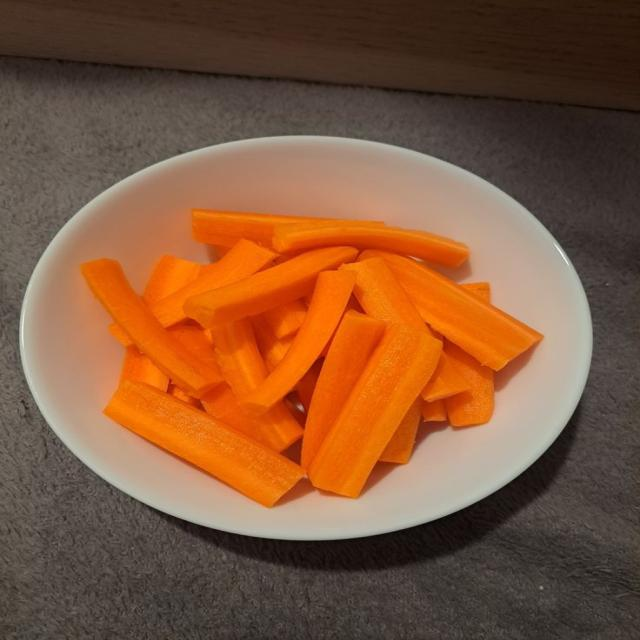carrot: (105, 381, 303, 506), (308, 325, 440, 497), (364, 251, 542, 370), (81, 259, 221, 397), (240, 271, 355, 413), (185, 247, 358, 326), (301, 311, 385, 468), (150, 240, 276, 326), (273, 222, 468, 266), (341, 258, 439, 337), (192, 209, 360, 247), (192, 209, 327, 246), (213, 319, 266, 398), (445, 341, 493, 426), (143, 256, 206, 305), (143, 256, 205, 304), (200, 382, 254, 437), (380, 397, 423, 463), (168, 325, 221, 377), (143, 256, 200, 304), (251, 315, 293, 373), (251, 315, 293, 372), (422, 351, 468, 401), (121, 345, 168, 390), (262, 300, 306, 338), (295, 359, 322, 412), (167, 383, 199, 407), (460, 282, 490, 302), (422, 400, 446, 422)
